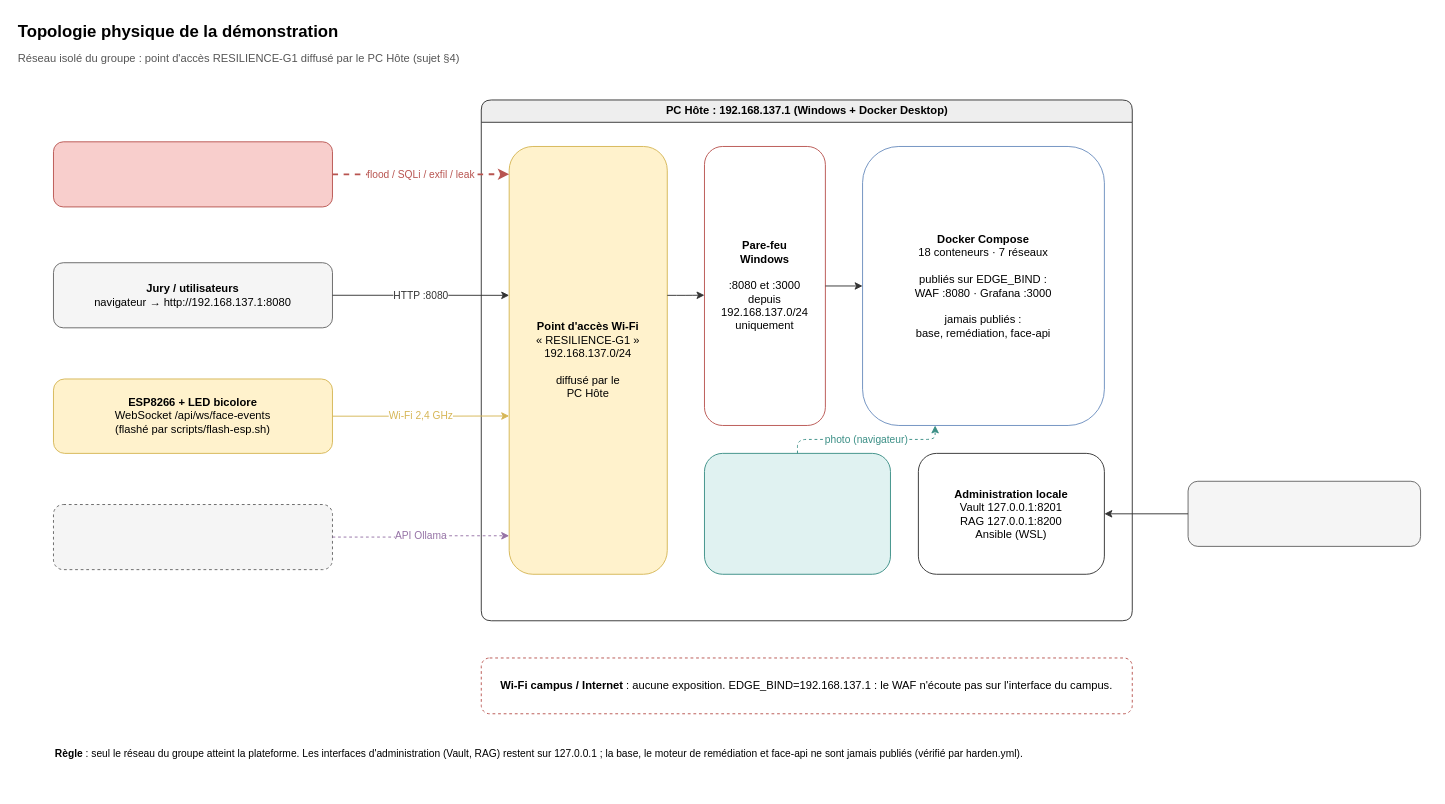
This 1445x804 diagram has some shape labels left out. The centre of each missing label's shape, as x and y in pixels:
"3e PC (optionnel) Ollama délesté si le PC Hôte manque de RAM" goes at (x=192, y=537).
"Caméra USB branchée sur le PC Hôte (reconnaissance faciale)" goes at (x=797, y=513).
"Opérateur Grafana · supervision · Vault" goes at (x=1304, y=513).
"PC Attaquant (Red Team) 192.168.137.x · attack/*.py · scripts/chaos.sh" goes at (x=192, y=174).
